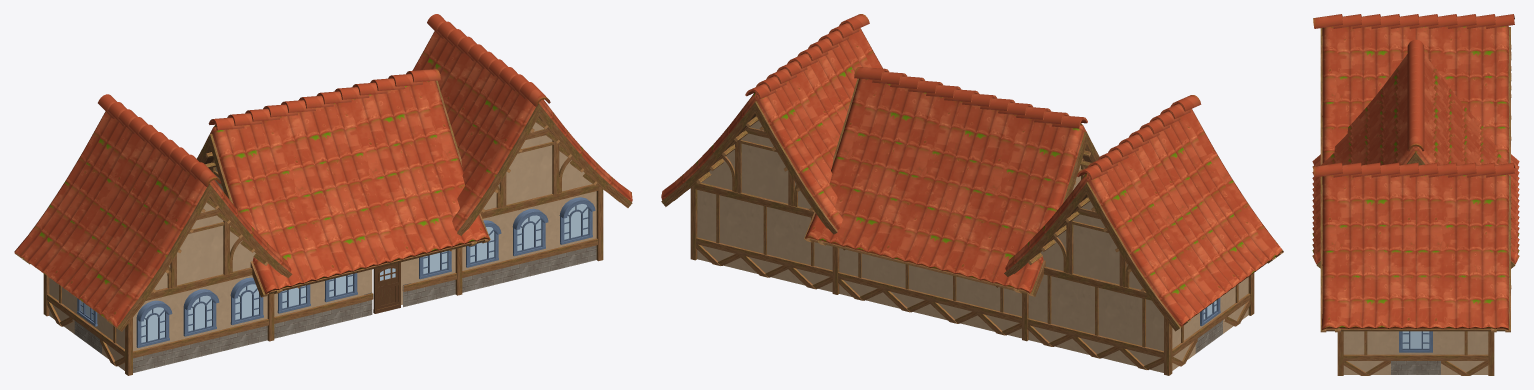
Rendered from fitness_centre.glb.
3 views of the same model, side by side, from view 1: azimuth 30°, elevation 25°; view 2: azimuth 150°, elevation 25°; view 3: azimuth 270°, elevation 25° (orthographic). The views are drawn at different scales.
Parts seen in each view (by area): view 1: Roof_RoundTiles_6x6, Wall_Plaster_Window_Wide_Round, Window_Wide_Round1, Corner_Exterior_Wood, Roof_Front_Brick6; view 2: Roof_RoundTiles_6x6, Wall_Plaster_Window_Wide_Round, Corner_Exterior_Wood, Roof_Front_Brick6; view 3: Roof_RoundTiles_6x6, Wall_Plaster_Window_Wide_Round, Window_Wide_Round1, Corner_Exterior_Wood.
Boxes of the visible parts, x1,y1,x2,y2 form: Roof_RoundTiles_6x6: (14, 14, 632, 327); Wall_Plaster_Window_Wide_Round: (14, 80, 632, 372); Window_Wide_Round1: (77, 197, 595, 347); Corner_Exterior_Wood: (43, 118, 603, 375); Roof_Front_Brick6: (154, 122, 592, 290); Roof_RoundTiles_6x6: (661, 14, 1283, 327); Wall_Plaster_Window_Wide_Round: (661, 78, 1283, 372); Corner_Exterior_Wood: (690, 116, 1254, 375); Roof_Front_Brick6: (701, 120, 1142, 289); Roof_RoundTiles_6x6: (1312, 14, 1519, 330); Wall_Plaster_Window_Wide_Round: (1316, 27, 1515, 375); Window_Wide_Round1: (1399, 331, 1432, 352); Corner_Exterior_Wood: (1337, 45, 1511, 375).
Size of the model in its own units: 22.25 by 7.89 by 8.25.
7 materials, 6 textured.
